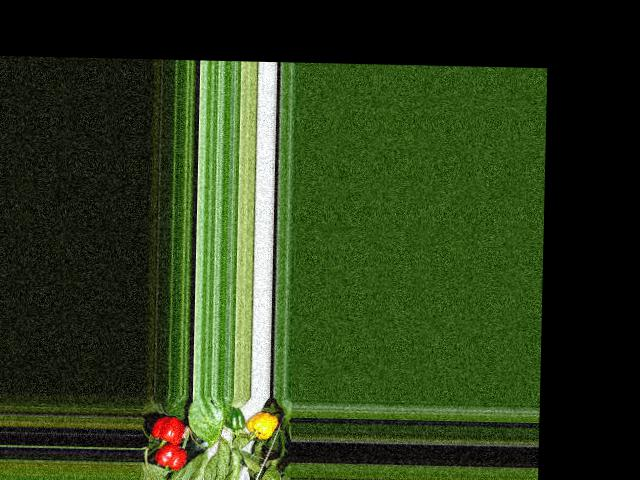bell_pepper: (245, 409, 281, 440)
